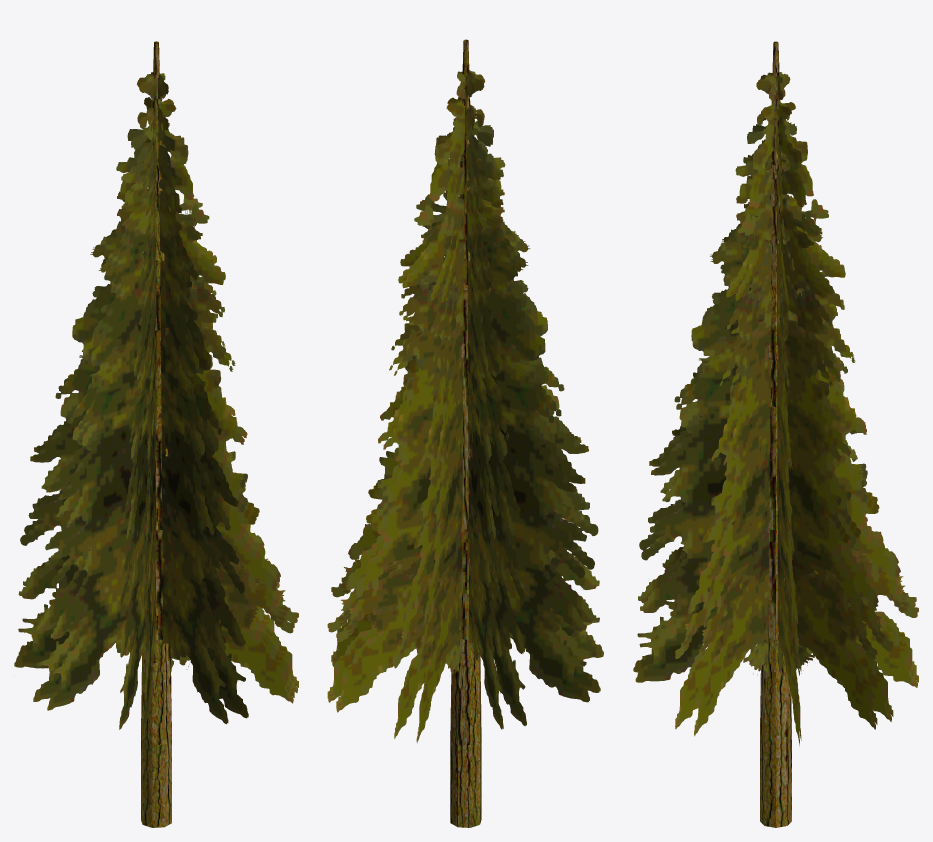
Rendered from Tree.fbx.
3 views of the same model, side by side, from view 1: azimuth 30°, elevation 25°; view 2: azimuth 150°, elevation 25°; view 3: azimuth 270°, elevation 25° (orthographic).
Parts seen in each view (by area): view 1: Cube; view 2: Cube; view 3: Cube.
Boxes of the visible parts, x1,y1,x2,y2 form: Cube: [14, 41, 298, 827]; Cube: [327, 39, 603, 827]; Cube: [633, 41, 918, 827].
Size of the model in its own units: 469 by 1409 by 469.
Materials: 2 (2 with a texture image).
